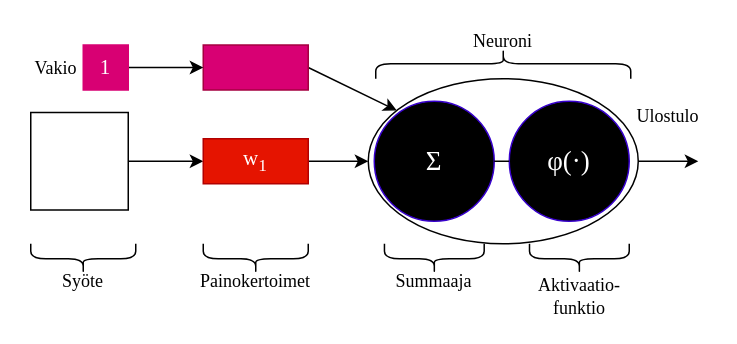
This 737x344 diagram has some shape labels left out. The shapes that lost their labels are listed below. From the top down, each one's box as (x1, y1, x2, y2) in pixels, then its label:
(202, 44, 308, 90): w b1
(29, 111, 128, 210): x 1
